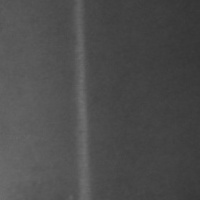scratches: (68, 10, 95, 198)
